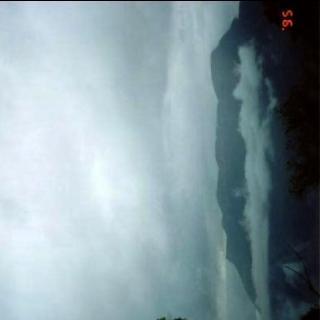Stratocumulus: (0, 0, 274, 320)
